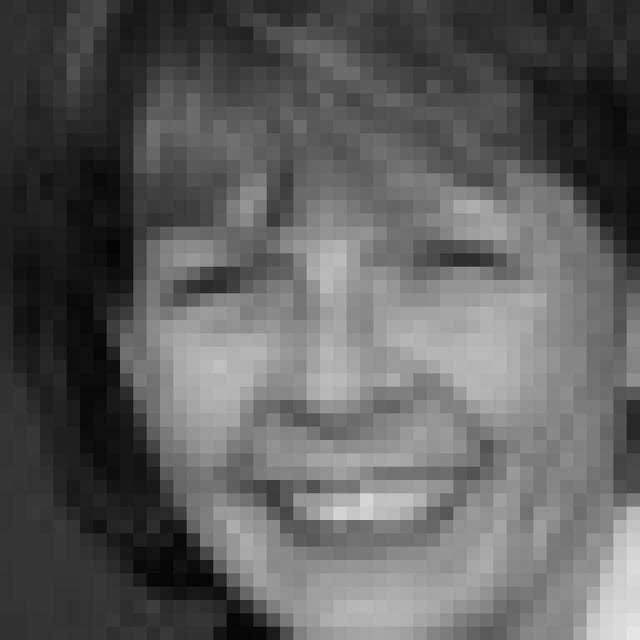happy: (145, 163, 538, 564)
